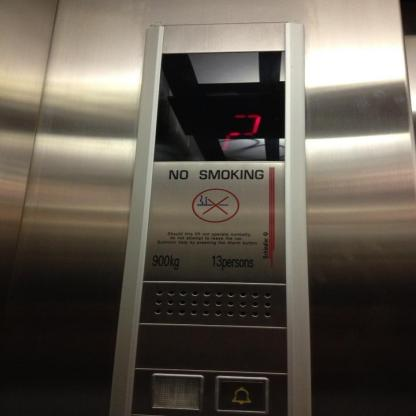alarm: (213, 373, 271, 413)
empty: (149, 371, 207, 412)
led: (152, 46, 290, 164)
